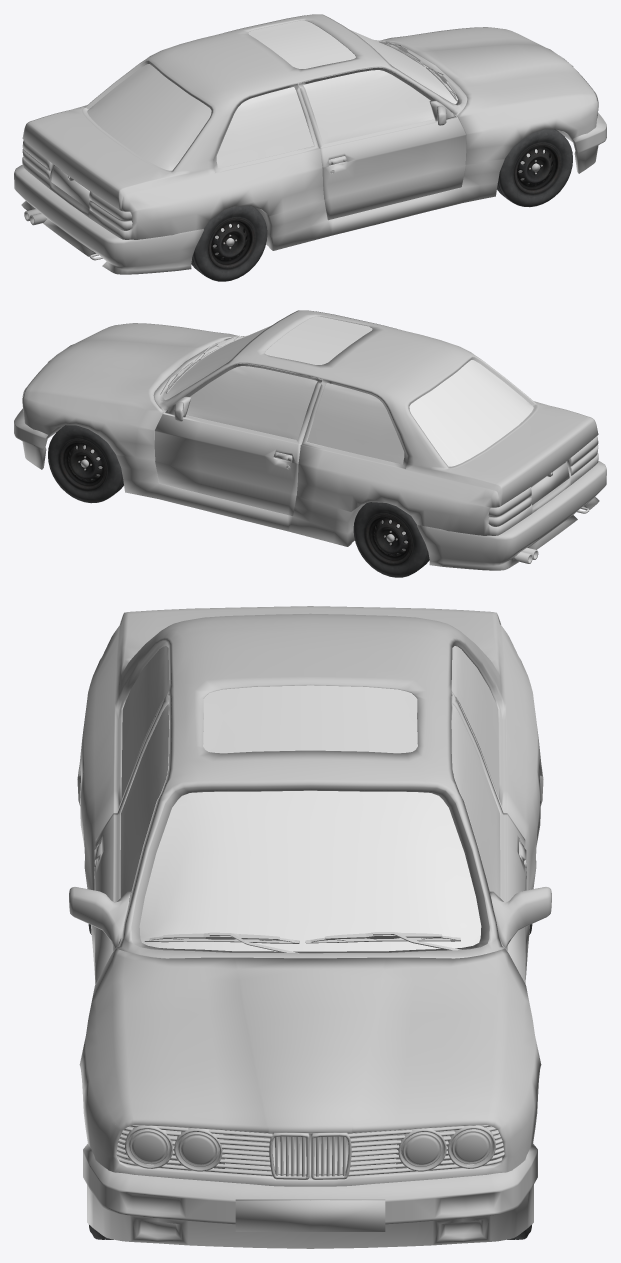
The model's file is bmw.fbx.
3 renders of one model, top to bottom at view 1: azimuth 30°, elevation 25°; view 2: azimuth 150°, elevation 25°; view 3: azimuth 270°, elevation 25°, orthographic. The views are drawn at different scales.
Visible parts, largest first — view 1: D 30, D E30 glass, car wheel 4.010, car wheel 4.009, gsd; view 2: D 30, D E30 glass, car wheel 4.007, car wheel 4.008, gsd; view 3: D 30, D E30 glass, gsd.
Boxes of the visible parts, box(x1,y1,x2,y2) form: D 30: box(14, 14, 606, 274); D E30 glass: box(87, 20, 457, 170); car wheel 4.010: box(497, 129, 572, 207); car wheel 4.009: box(191, 206, 267, 281); gsd: box(379, 41, 457, 101); D 30: box(14, 310, 606, 570); D E30 glass: box(163, 316, 533, 466); car wheel 4.007: box(48, 425, 123, 503); car wheel 4.008: box(353, 502, 429, 577); gsd: box(160, 335, 246, 394); D 30: box(69, 606, 551, 1248); D E30 glass: box(120, 646, 500, 951); gsd: box(144, 932, 461, 953).
Size of the model in its own units: 431 by 136 by 175.
